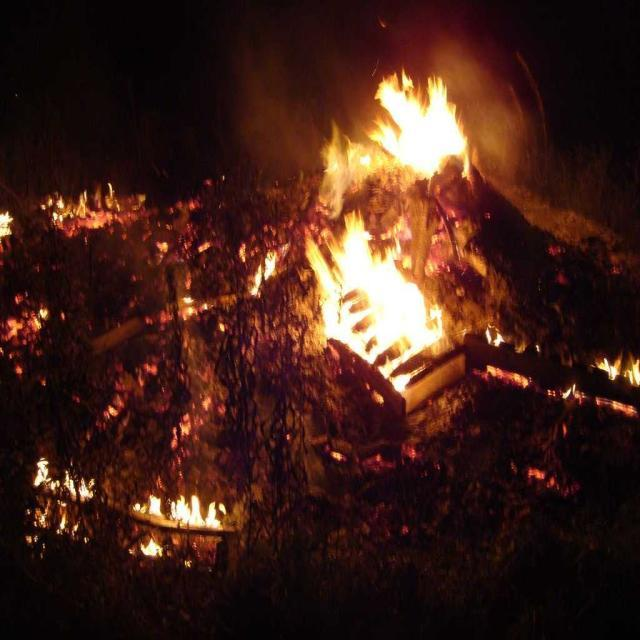Fire: (308, 213, 447, 410), (361, 55, 476, 179), (142, 468, 230, 560)
